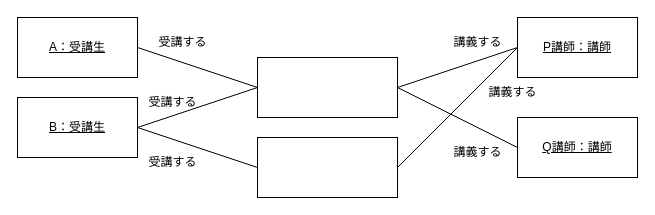
Image size: 655x215. Some labels were removed from this diagram. The shapes that lost their labels are listed below. From the top down, each one's centre as x and y in pixels, then its label:
(x=327, y=87): 第n回L1セミナ：セミナ
(x=327, y=167): 第m回L1セミナ：セミナ
